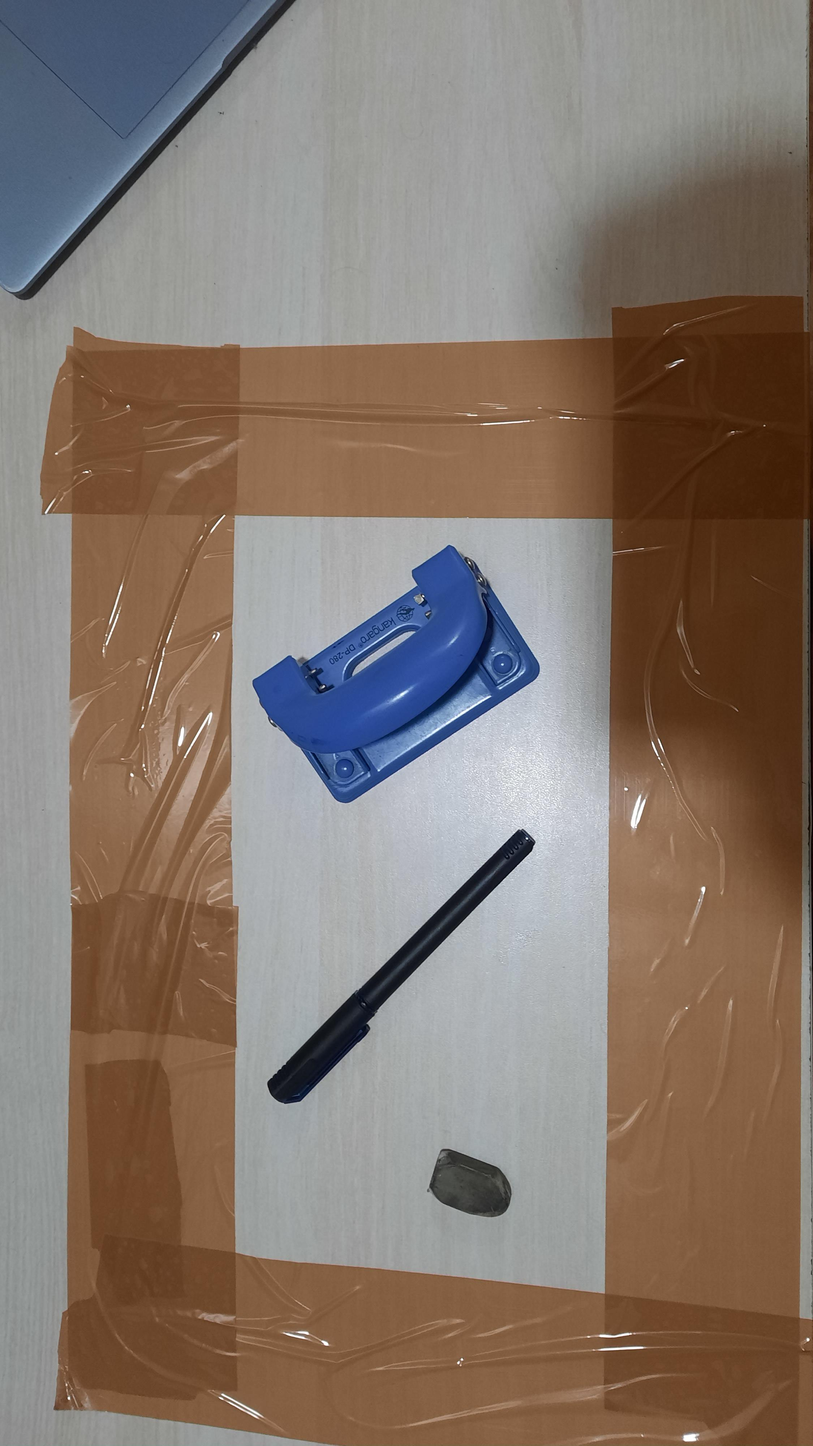Eraser: (427, 1149, 512, 1218)
Pen: (267, 829, 535, 1104)
Punch: (252, 545, 540, 804)
